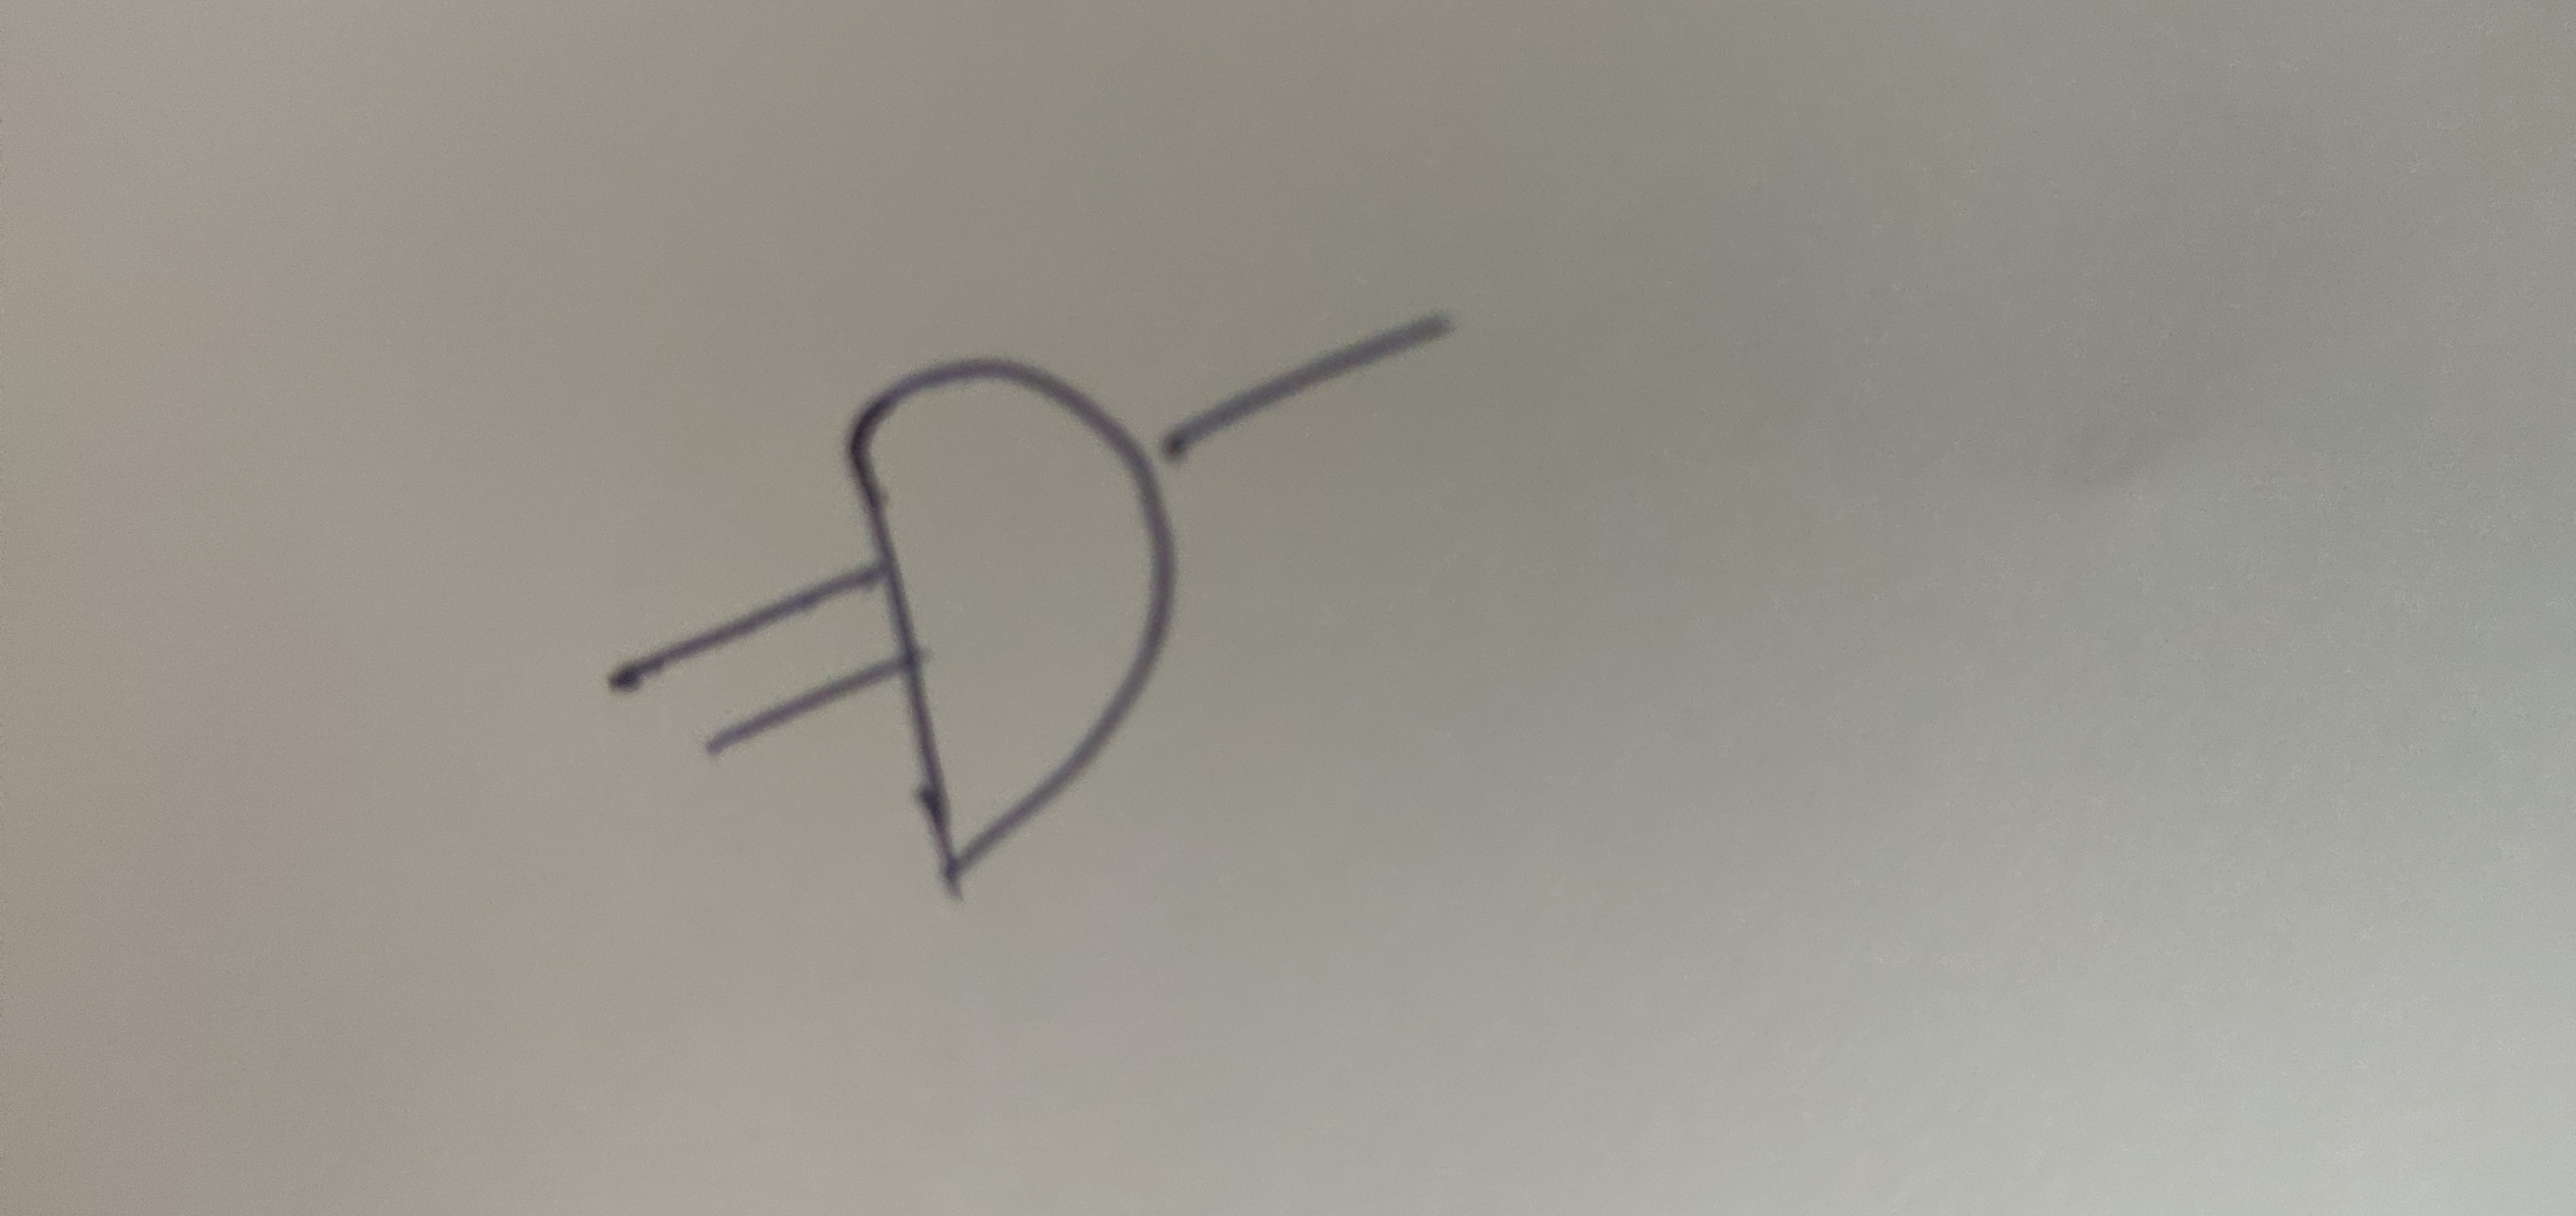and: (761, 289, 1311, 924)
